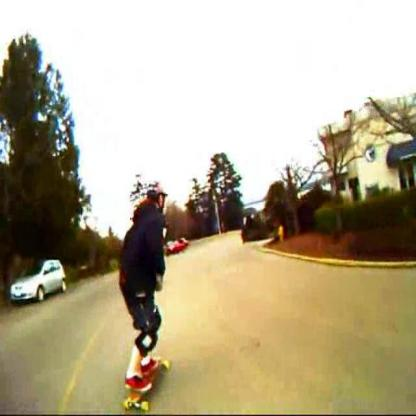other: (96, 352, 198, 406), (163, 236, 194, 263)
